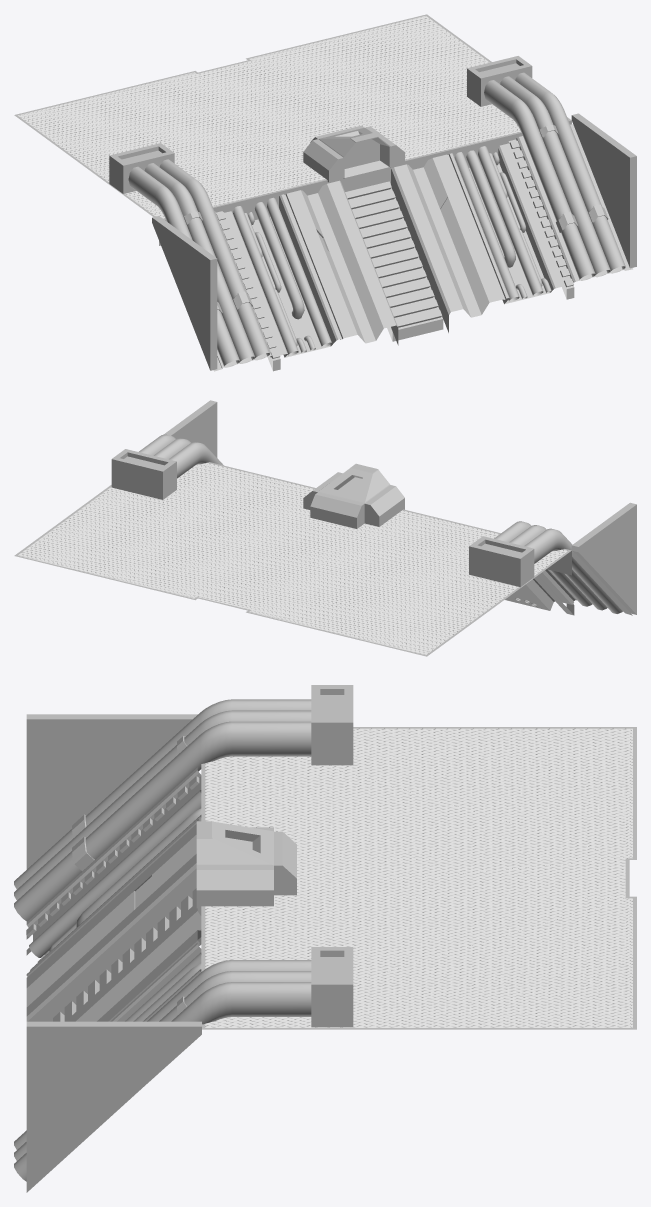
Rendered from ElevatorEndingPlatform.fbx.
The picture shows the model from 3 angles, top to bottom: view 1: azimuth 30°, elevation 25°; view 2: azimuth 150°, elevation 25°; view 3: azimuth 270°, elevation 25°; orthographic projection. The views are drawn at different scales.
Parts seen in each view (by area): view 1: ElevatorEndTile; view 2: ElevatorEndTile; view 3: ElevatorEndTile.
Boxes of the visible parts, x1,y1,x2,y2 form: ElevatorEndTile: [14, 14, 636, 371]; ElevatorEndTile: [14, 400, 636, 656]; ElevatorEndTile: [14, 685, 636, 1192].
Bounding box in the file's own units: 71.36 × 84.72 × 30.19.
